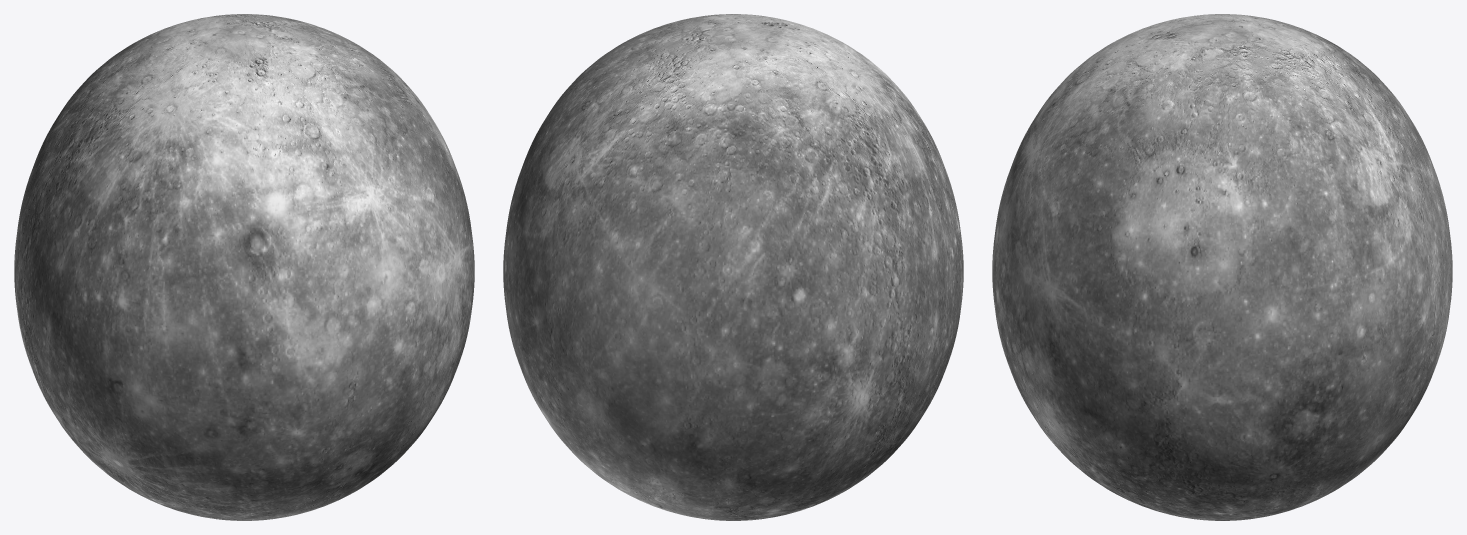
File: water_body lvl 2.glb
3 views of the same model, side by side, from view 1: azimuth 30°, elevation 25°; view 2: azimuth 150°, elevation 25°; view 3: azimuth 270°, elevation 25° (orthographic).
Parts seen in each view (by area): view 1: Surface; view 2: Surface; view 3: Surface.
Part boxes in pixels (x1,y1,x2,y2): Surface: [14, 14, 474, 520]; Surface: [503, 14, 963, 520]; Surface: [992, 14, 1452, 520].
Size of the model in its own units: 1.93 by 2.16 by 1.93.
Materials: 8 (6 with a texture image).
